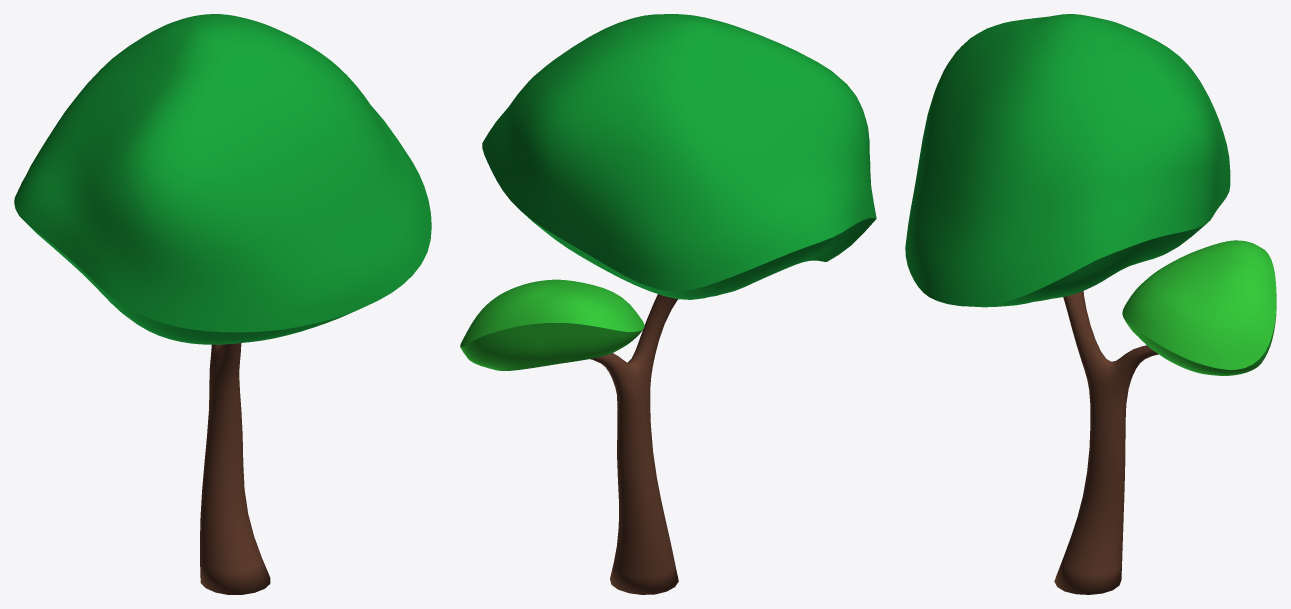
The model's file is tree_09.fbx.
3 views of the same model, side by side, from view 1: azimuth 30°, elevation 25°; view 2: azimuth 150°, elevation 25°; view 3: azimuth 270°, elevation 25° (orthographic). The views are drawn at different scales.
Visible parts, largest first — view 1: BSurfaceMesh.003; view 2: BSurfaceMesh.003; view 3: BSurfaceMesh.003.
Part boxes in pixels (left/top/right/bottom): BSurfaceMesh.003: left=14, top=14, right=431, bottom=594; BSurfaceMesh.003: left=460, top=14, right=876, bottom=594; BSurfaceMesh.003: left=905, top=14, right=1276, bottom=594.
Size of the model in its own units: 335 by 494 by 305.
